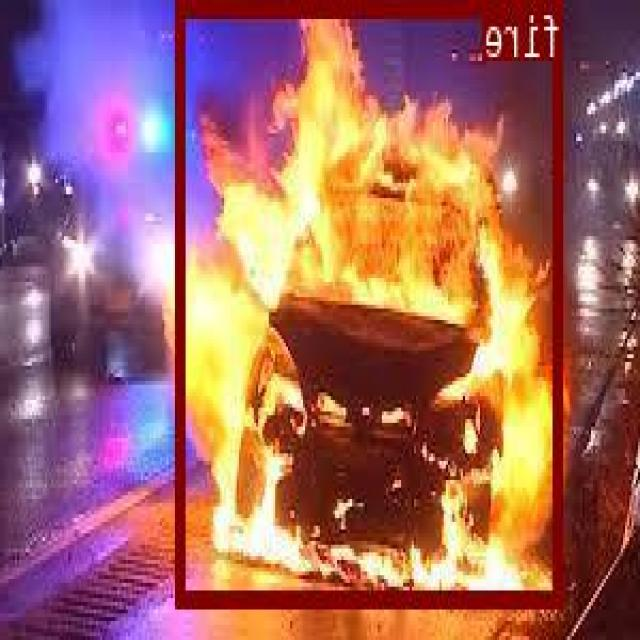fire: (177, 0, 565, 606)
